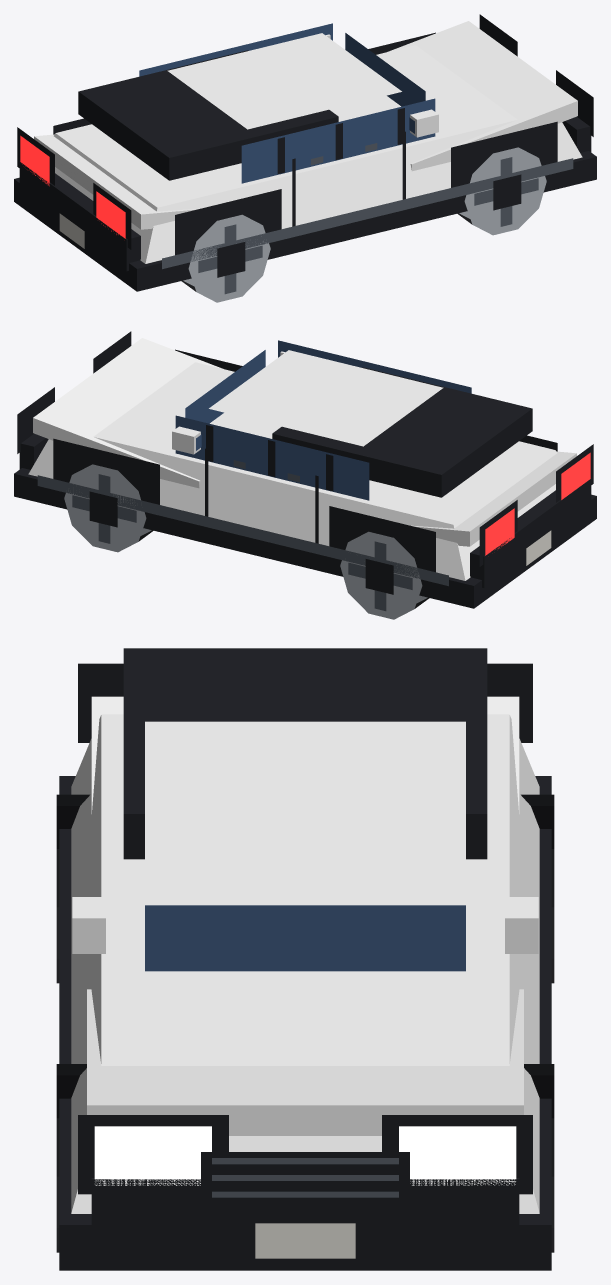
The model's file is car_convertible.glb.
The picture shows the model from 3 angles, top to bottom: view 1: azimuth 30°, elevation 25°; view 2: azimuth 150°, elevation 25°; view 3: azimuth 270°, elevation 25°; orthographic projection. The views are drawn at different scales.
Visible parts, largest first — view 1: car_convertible; view 2: car_convertible; view 3: car_convertible.
Part boxes in pixels (bbox=[...]): car_convertible: bbox=[14, 14, 596, 302]; car_convertible: bbox=[14, 331, 596, 619]; car_convertible: bbox=[56, 648, 554, 1270].
Size of the model in its own units: 0.3861 by 0.1138 by 0.1824.
